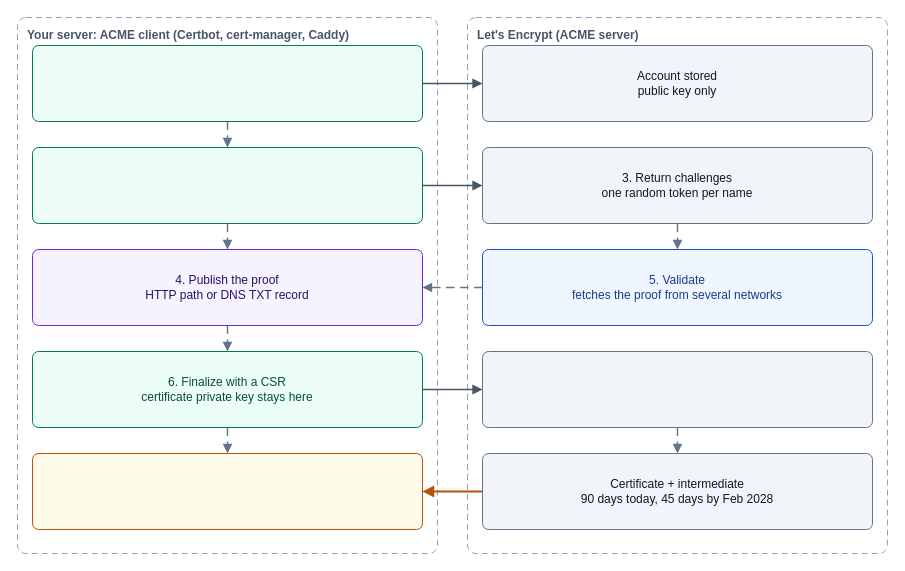
This 905x571 diagram has some shape labels left out. The box of each missing label's shape, as (x1, y1, x2, y2) in pixels:
1. Register an account account key pair signs every request: (32, 44, 422, 122)
2. Create an order names: example.com, www.example.com: (32, 146, 422, 224)
7. Sign the certificate logged to Certificate Transparency: (482, 350, 872, 428)
8. Install certificate + chain reload the server; renew = repeat: (32, 452, 422, 530)
